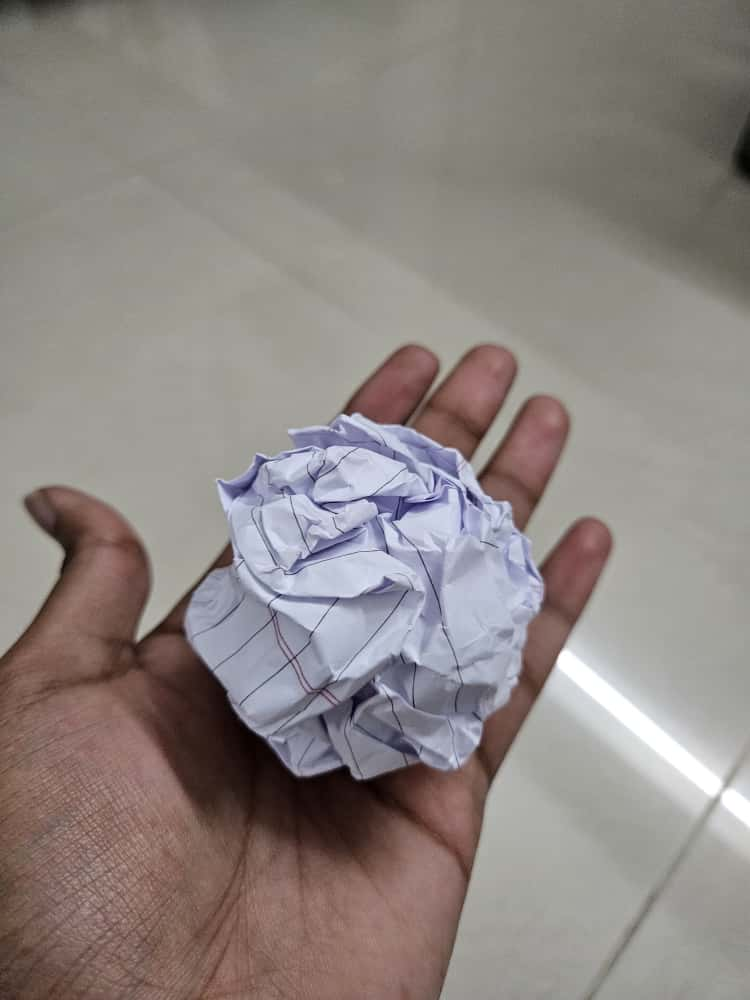dry: (132, 382, 577, 809)
